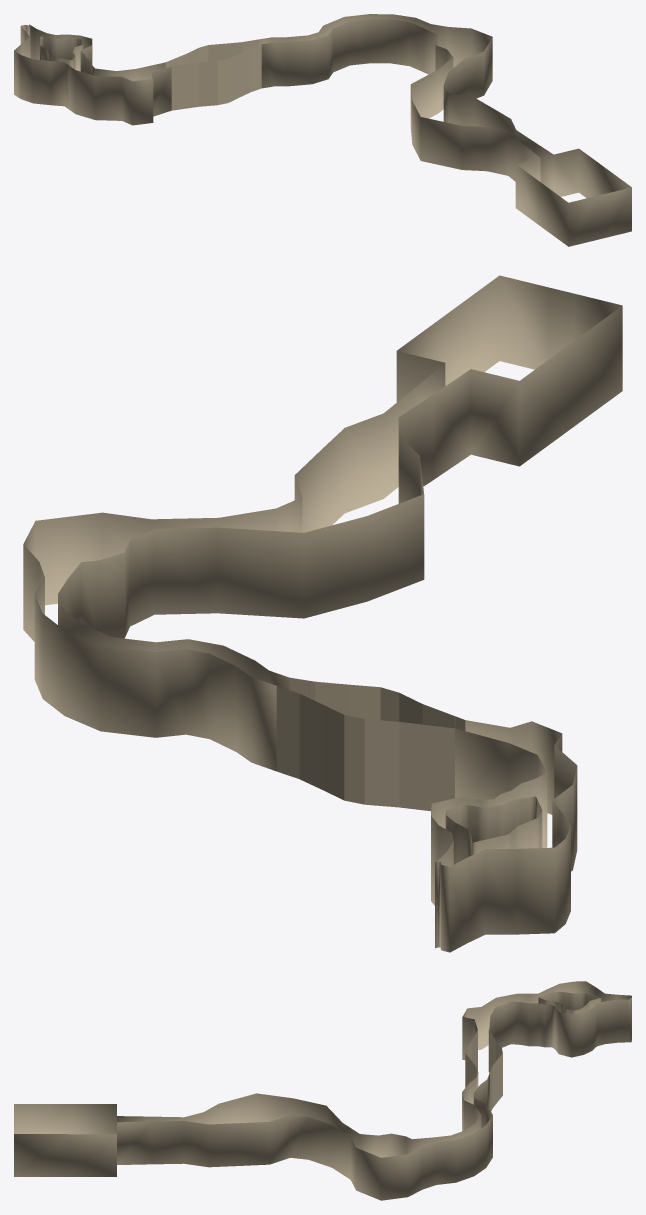
Rendered from Level_2_Colliders.fbx.
3 renders of one model, top to bottom at view 1: azimuth 30°, elevation 25°; view 2: azimuth 150°, elevation 25°; view 3: azimuth 270°, elevation 25°, orthographic. The views are drawn at different scales.
Parts seen in each view (by area): view 1: Plane_004.001; view 2: Plane_004.001; view 3: Plane_004.001.
Part boxes in pixels (x1=…): Plane_004.001: x1=14, y1=14, x2=631, y2=246; Plane_004.001: x1=23, y1=275, x2=622, y2=952; Plane_004.001: x1=14, y1=981, x2=631, y2=1200.
Bounding box in the file's own units: 44658 × 5071 × 66004.
